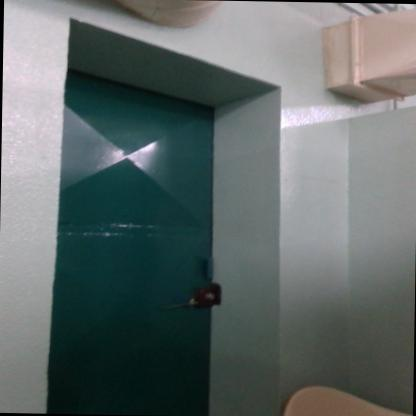closed: (34, 57, 252, 412)
